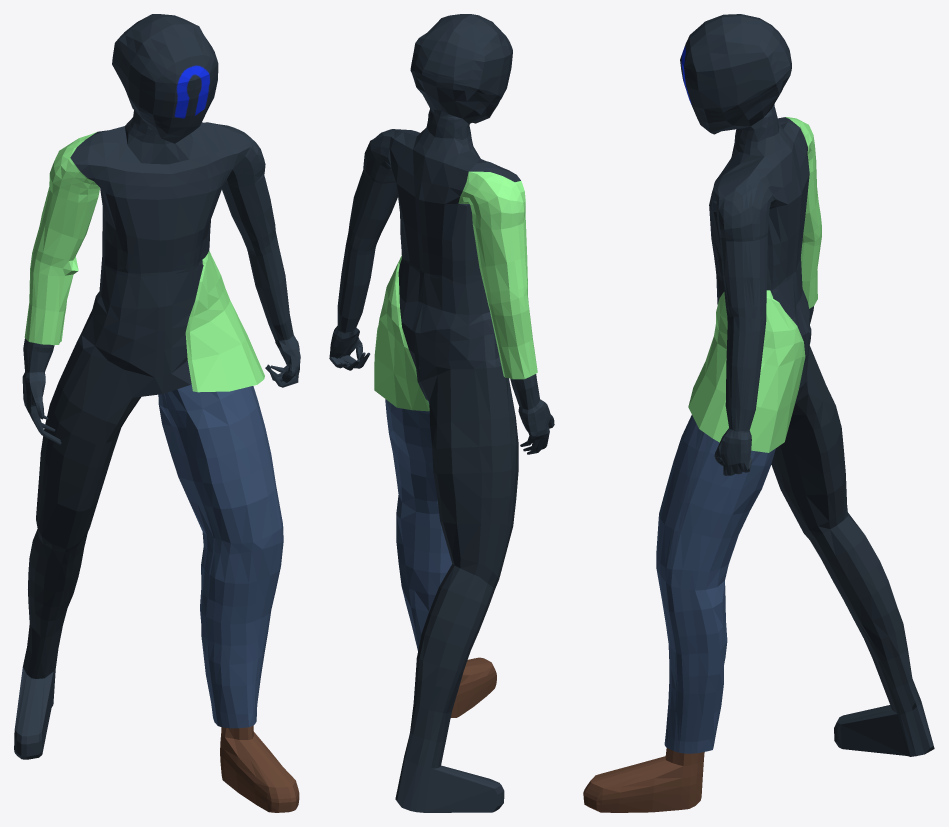
File: Mar_Recover_000023.obj
3 views of the same model, side by side, from view 1: azimuth 30°, elevation 25°; view 2: azimuth 150°, elevation 25°; view 3: azimuth 270°, elevation 25° (orthographic). The views are drawn at different scales.
Parts seen in each view (by area): view 1: Cube.000_Cube.001; view 2: Cube.000_Cube.001; view 3: Cube.000_Cube.001.
Boxes of the visible parts, x1,y1,x2,y2 form: Cube.000_Cube.001: [14, 14, 300, 812]; Cube.000_Cube.001: [329, 14, 554, 812]; Cube.000_Cube.001: [583, 14, 934, 812].
Bounding box in the file's own units: 1.32 × 3.88 × 1.61.
